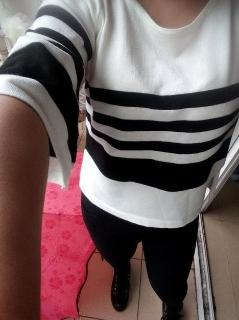long sleeve top: (0, 0, 239, 229)
trousers: (81, 183, 201, 306)
